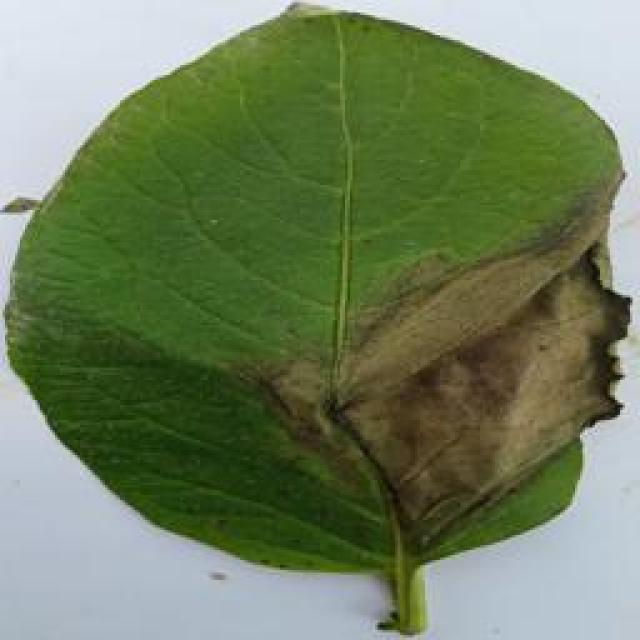Potato_Late_Blight: (8, 3, 626, 627)
